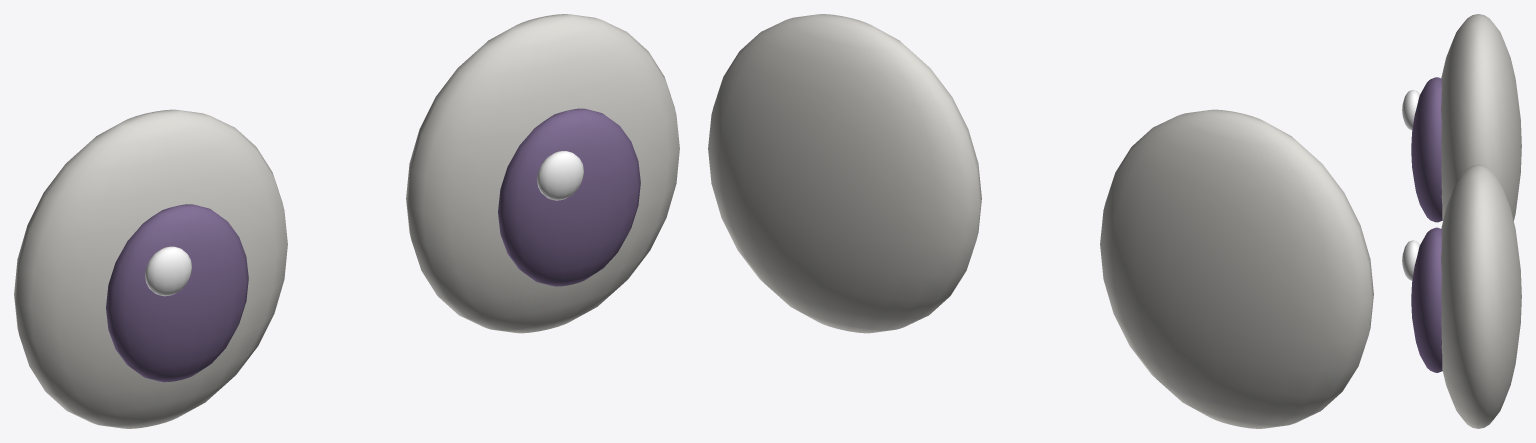
Rendered from eyes-round.glb.
3 renders of one model, left to right at view 1: azimuth 30°, elevation 25°; view 2: azimuth 150°, elevation 25°; view 3: azimuth 270°, elevation 25°, orthographic. The views are drawn at different scales.
Visible parts, largest first — view 1: CMP_Critter_Eyes_Round_White_R, CMP_Critter_Eyes_Round_White_L, CMP_Critter_Eyes_Round_Pupil_L, CMP_Critter_Eyes_Round_Pupil_R, CMP_Critter_Eyes_Round_Shine_L, CMP_Critter_Eyes_Round_Shine_R; view 2: CMP_Critter_Eyes_Round_White_L, CMP_Critter_Eyes_Round_White_R; view 3: CMP_Critter_Eyes_Round_White_R, CMP_Critter_Eyes_Round_White_L, CMP_Critter_Eyes_Round_Pupil_R, CMP_Critter_Eyes_Round_Pupil_L, CMP_Critter_Eyes_Round_Shine_L, CMP_Critter_Eyes_Round_Shine_R.
Boxes of the visible parts, x1,y1,x2,y2 form: CMP_Critter_Eyes_Round_White_R: (406, 14, 679, 333); CMP_Critter_Eyes_Round_White_L: (14, 109, 287, 428); CMP_Critter_Eyes_Round_Pupil_L: (106, 204, 248, 382); CMP_Critter_Eyes_Round_Pupil_R: (498, 108, 640, 286); CMP_Critter_Eyes_Round_Shine_L: (145, 246, 191, 296); CMP_Critter_Eyes_Round_Shine_R: (537, 151, 583, 200); CMP_Critter_Eyes_Round_White_L: (1100, 109, 1373, 428); CMP_Critter_Eyes_Round_White_R: (708, 14, 981, 333); CMP_Critter_Eyes_Round_White_R: (1441, 164, 1521, 428); CMP_Critter_Eyes_Round_White_L: (1441, 14, 1521, 220); CMP_Critter_Eyes_Round_Pupil_R: (1411, 227, 1442, 372); CMP_Critter_Eyes_Round_Pupil_L: (1411, 77, 1442, 222); CMP_Critter_Eyes_Round_Shine_L: (1402, 90, 1419, 130); CMP_Critter_Eyes_Round_Shine_R: (1402, 240, 1419, 280).
Bounding box in the file's own units: 1.52 × 0.68 × 0.303.
